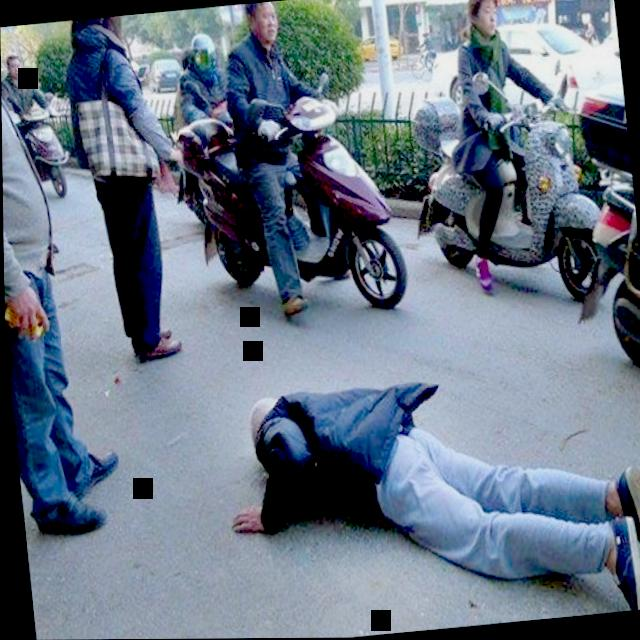Fall-Detected: (201, 338, 640, 639)
